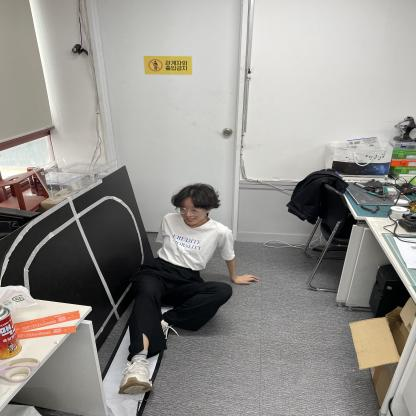fall: (120, 183, 250, 397)
